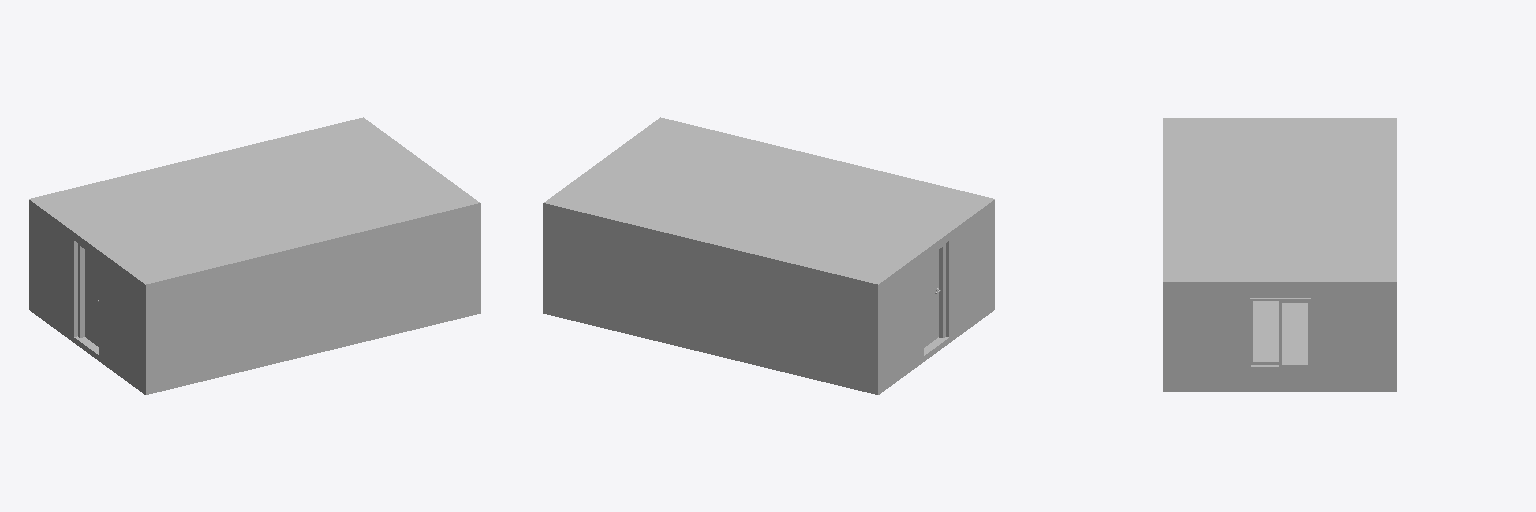
File: interior01.obj
3 renders of one model, left to right at view 1: azimuth 30°, elevation 25°; view 2: azimuth 150°, elevation 25°; view 3: azimuth 270°, elevation 25°, orthographic.
Visible parts, largest first — view 1: Room, Door, DoorFrame_DoorFrane; view 2: Room, Door, DoorFrame_DoorFrane; view 3: Room, WindowFrame.001_WindowFrane.001.
Part boxes in pixels (left/top/right/bottom): Room: left=29, top=117, right=480, bottom=394; Door: left=85, top=250, right=98, bottom=346; DoorFrame_DoorFrane: left=78, top=244, right=98, bottom=337; Room: left=543, top=117, right=994, bottom=394; Door: left=924, top=250, right=938, bottom=347; DoorFrame_DoorFrane: left=924, top=244, right=945, bottom=337; Room: left=1163, top=118, right=1396, bottom=391; WindowFrame.001_WindowFrane.001: left=1249, top=298, right=1310, bottom=368.
Size of the model in its own units: 7.67 by 2.4 by 4.6.